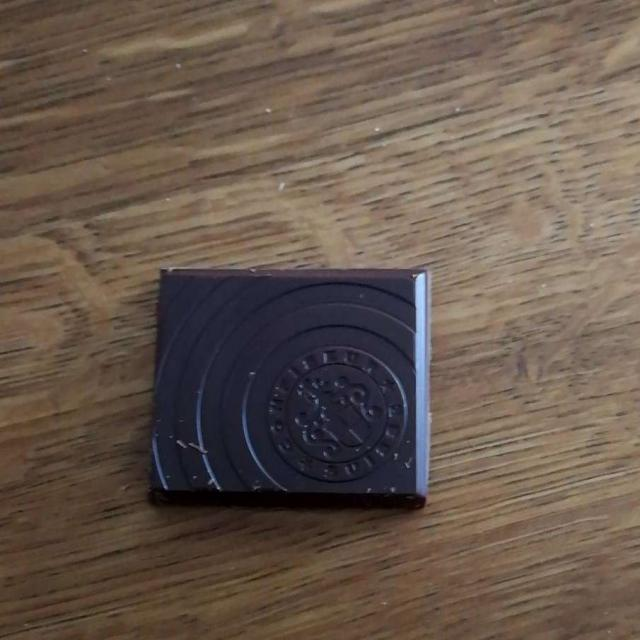chocolate: (150, 267, 430, 501)
